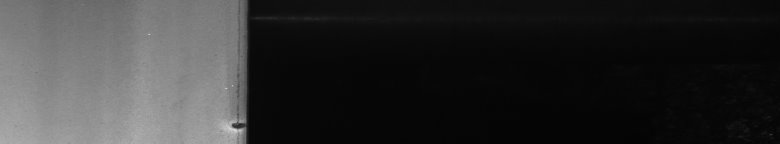hb: (220, 111, 236, 136)
